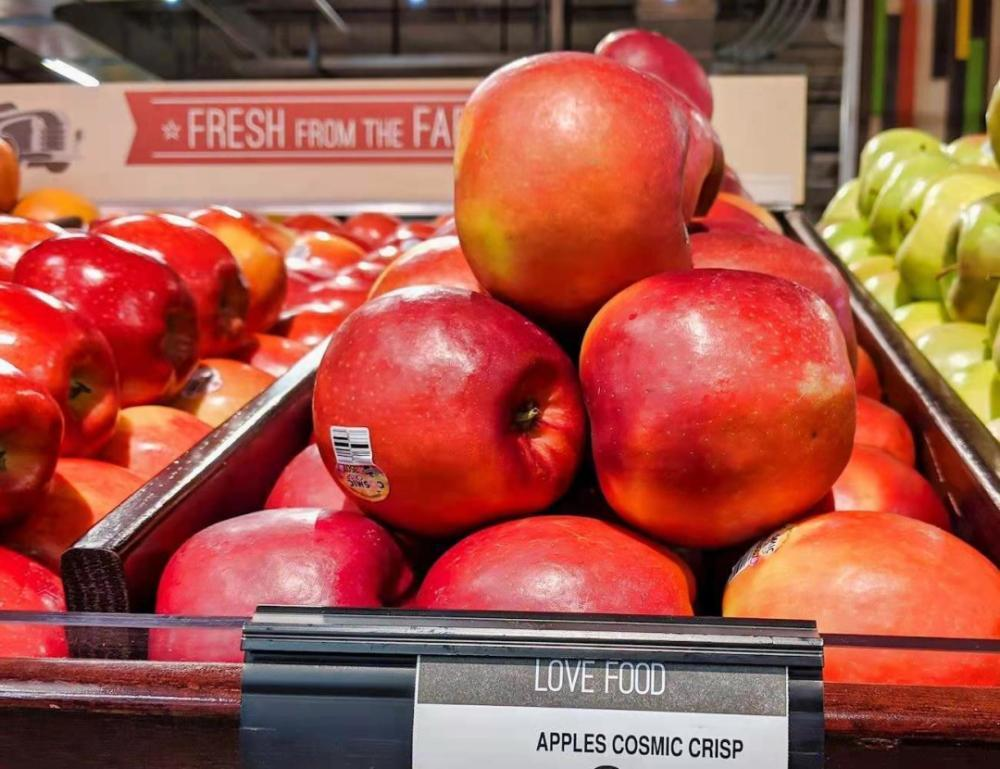apple: (581, 264, 857, 547), (453, 51, 715, 331), (314, 282, 581, 534), (146, 507, 410, 669), (717, 506, 1000, 639), (13, 232, 201, 405), (408, 515, 696, 616), (86, 214, 248, 360), (1, 280, 122, 459)
